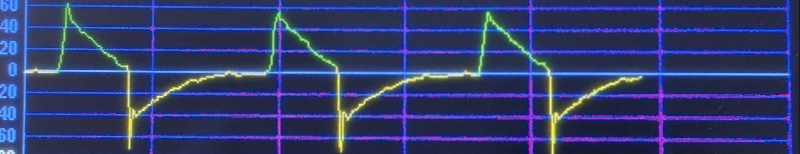normal_flow: (22, 4, 644, 154)
